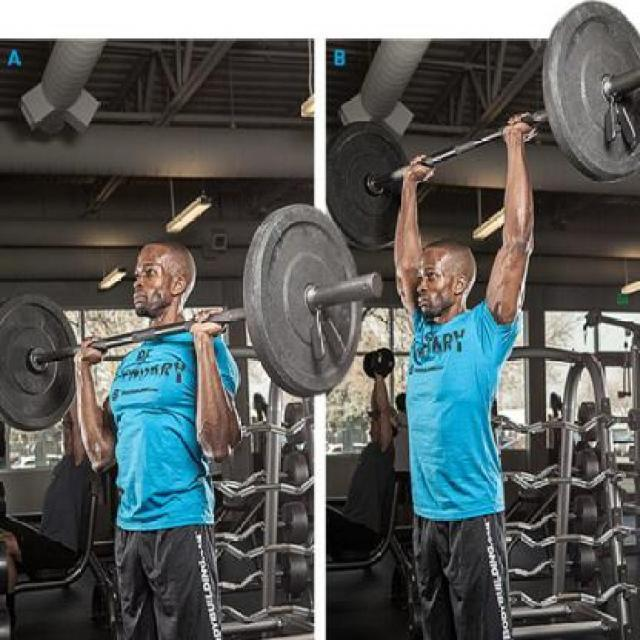Barbell: (298, 265, 386, 327)
